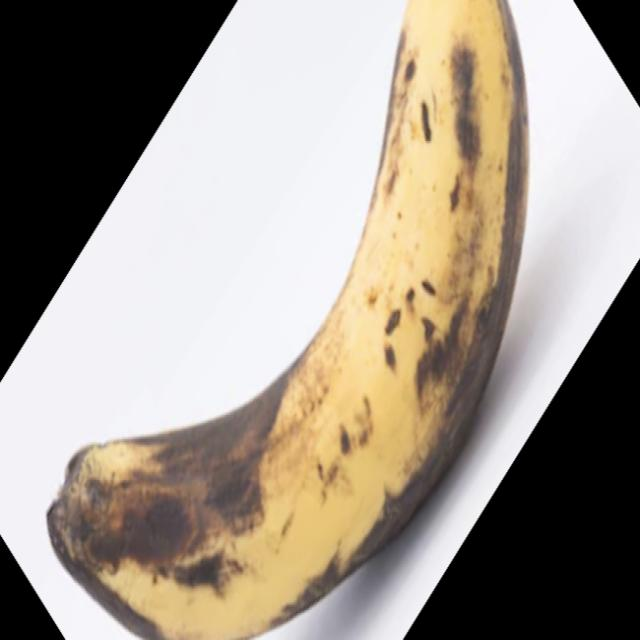overripe: (40, 3, 536, 640)
